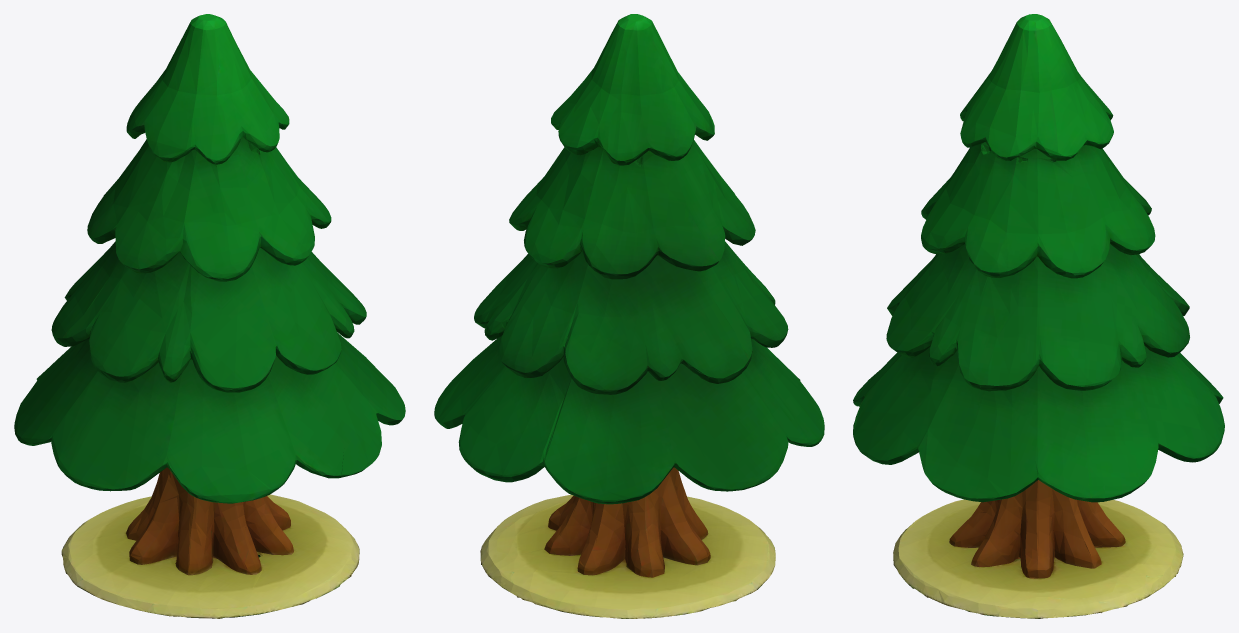
File: pointed_tree.glb
The picture shows the model from 3 angles, left to right: view 1: azimuth 30°, elevation 25°; view 2: azimuth 150°, elevation 25°; view 3: azimuth 270°, elevation 25°; orthographic projection.
Parts seen in each view (by area): view 1: geometry_0; view 2: geometry_0; view 3: geometry_0.
Part boxes in pixels (box(x1,y1,x2,y2)): geometry_0: box(14, 14, 405, 618); geometry_0: box(434, 14, 824, 618); geometry_0: box(853, 14, 1224, 618).
Bounding box in the file's own units: 0.6464 × 1 × 0.6281.
1 material, 1 textured.
